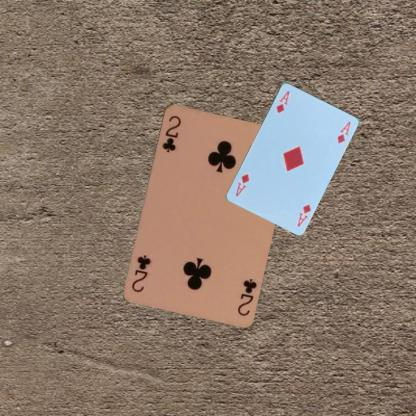2c: (235, 276, 258, 317), (160, 113, 182, 153)
Ad: (273, 88, 291, 114), (295, 201, 312, 228)
